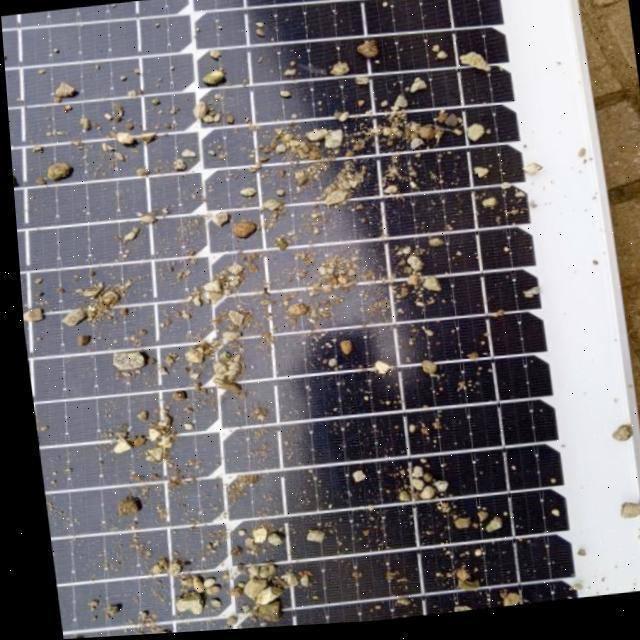Anomaly Solar Panel: (0, 0, 597, 640)
Surface Contaminant: (1, 0, 596, 639)
